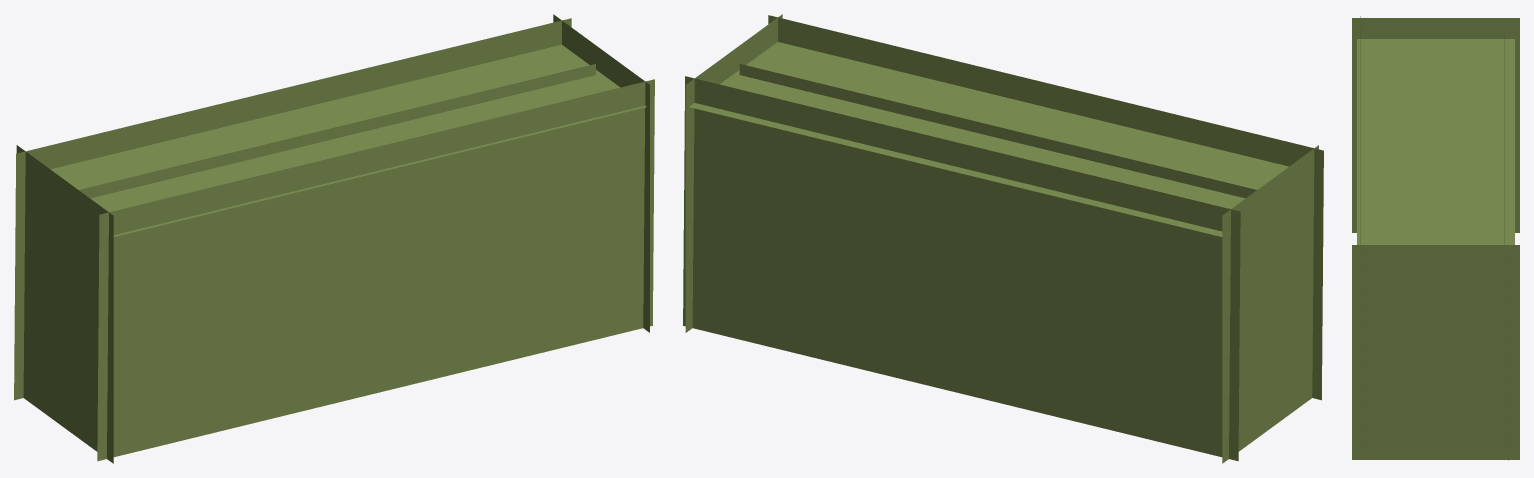
The model's file is hedge-v1.glb.
3 views of the same model, side by side, from view 1: azimuth 30°, elevation 25°; view 2: azimuth 150°, elevation 25°; view 3: azimuth 270°, elevation 25° (orthographic). The views are drawn at different scales.
Visible parts, largest first — view 1: hedge-v1; view 2: hedge-v1; view 3: hedge-v1.
Part boxes in pixels (x1,y1,x2,y2): hedge-v1: [14, 14, 654, 463]; hedge-v1: [683, 14, 1323, 463]; hedge-v1: [1352, 16, 1519, 460].
Size of the model in its own units: 3.05 by 1.3 by 0.92.
